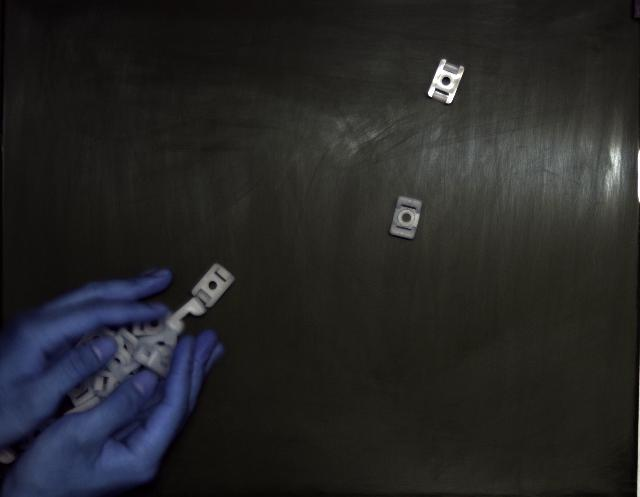first_side: (390, 196, 422, 240)
second_side: (191, 264, 235, 309), (428, 59, 464, 104)
